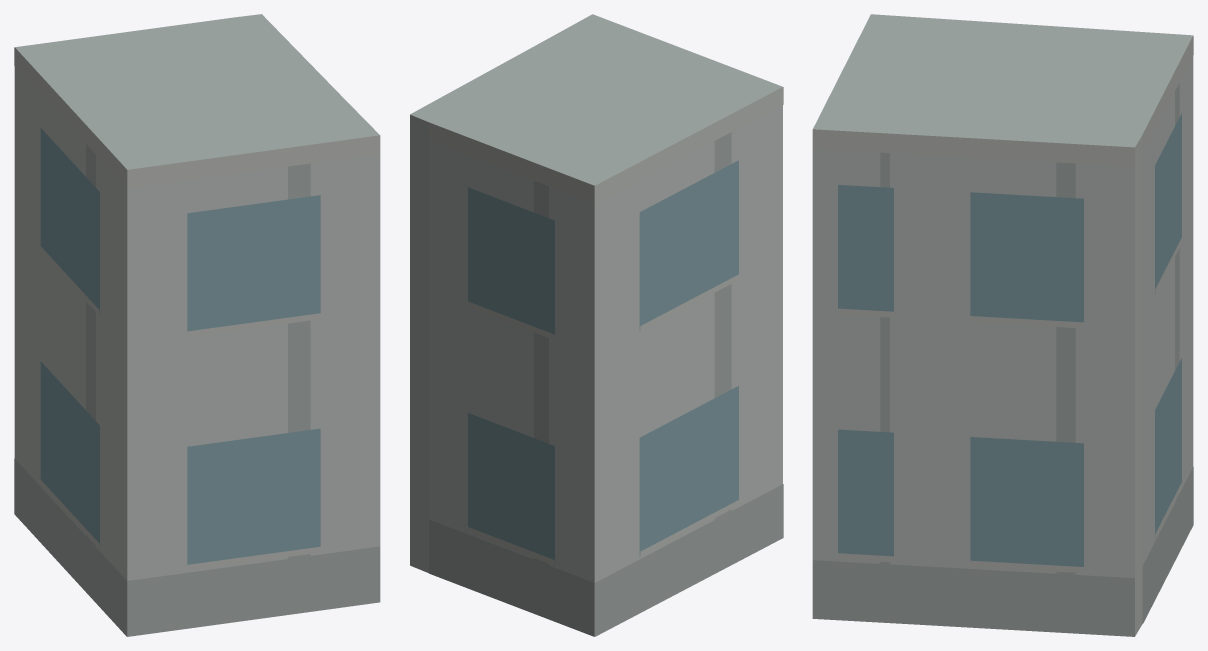
Rendered from survey-upis-32705310.glb.
3 renders of one model, left to right at view 1: azimuth 30°, elevation 25°; view 2: azimuth 150°, elevation 25°; view 3: azimuth 270°, elevation 25°, orthographic. The views are drawn at different scales.
Visible parts, largest first — view 1: survey-upis-32705310.tmp; view 2: survey-upis-32705310.tmp; view 3: survey-upis-32705310.tmp.
Boxes of the visible parts, x1,y1,x2,y2 form: survey-upis-32705310.tmp: (14,14,380,636); survey-upis-32705310.tmp: (410,14,783,636); survey-upis-32705310.tmp: (812,14,1193,636).
Bounding box in the file's own units: 3.57 × 6.1 × 4.31.
